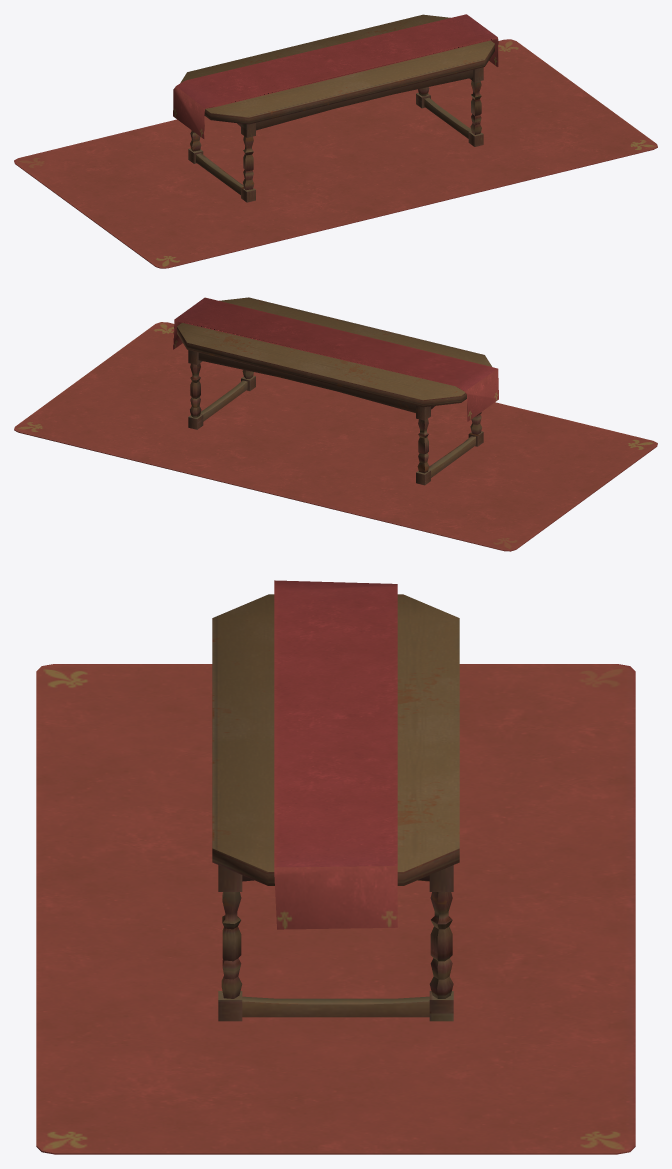
Rendered from FUR0210031.fbx.
The picture shows the model from 3 angles, top to bottom: view 1: azimuth 30°, elevation 25°; view 2: azimuth 150°, elevation 25°; view 3: azimuth 270°, elevation 25°; orthographic projection. The views are drawn at different scales.
Visible parts, largest first — view 1: smFUR0210031; view 2: smFUR0210031; view 3: smFUR0210031.
Boxes of the visible parts, <box> form: smFUR0210031: <box>14,14,657,268</box>; smFUR0210031: <box>14,297,657,551</box>; smFUR0210031: <box>36,580,635,1154</box>.
Size of the model in its own units: 595 by 108 by 308.
1 material, 1 textured.
